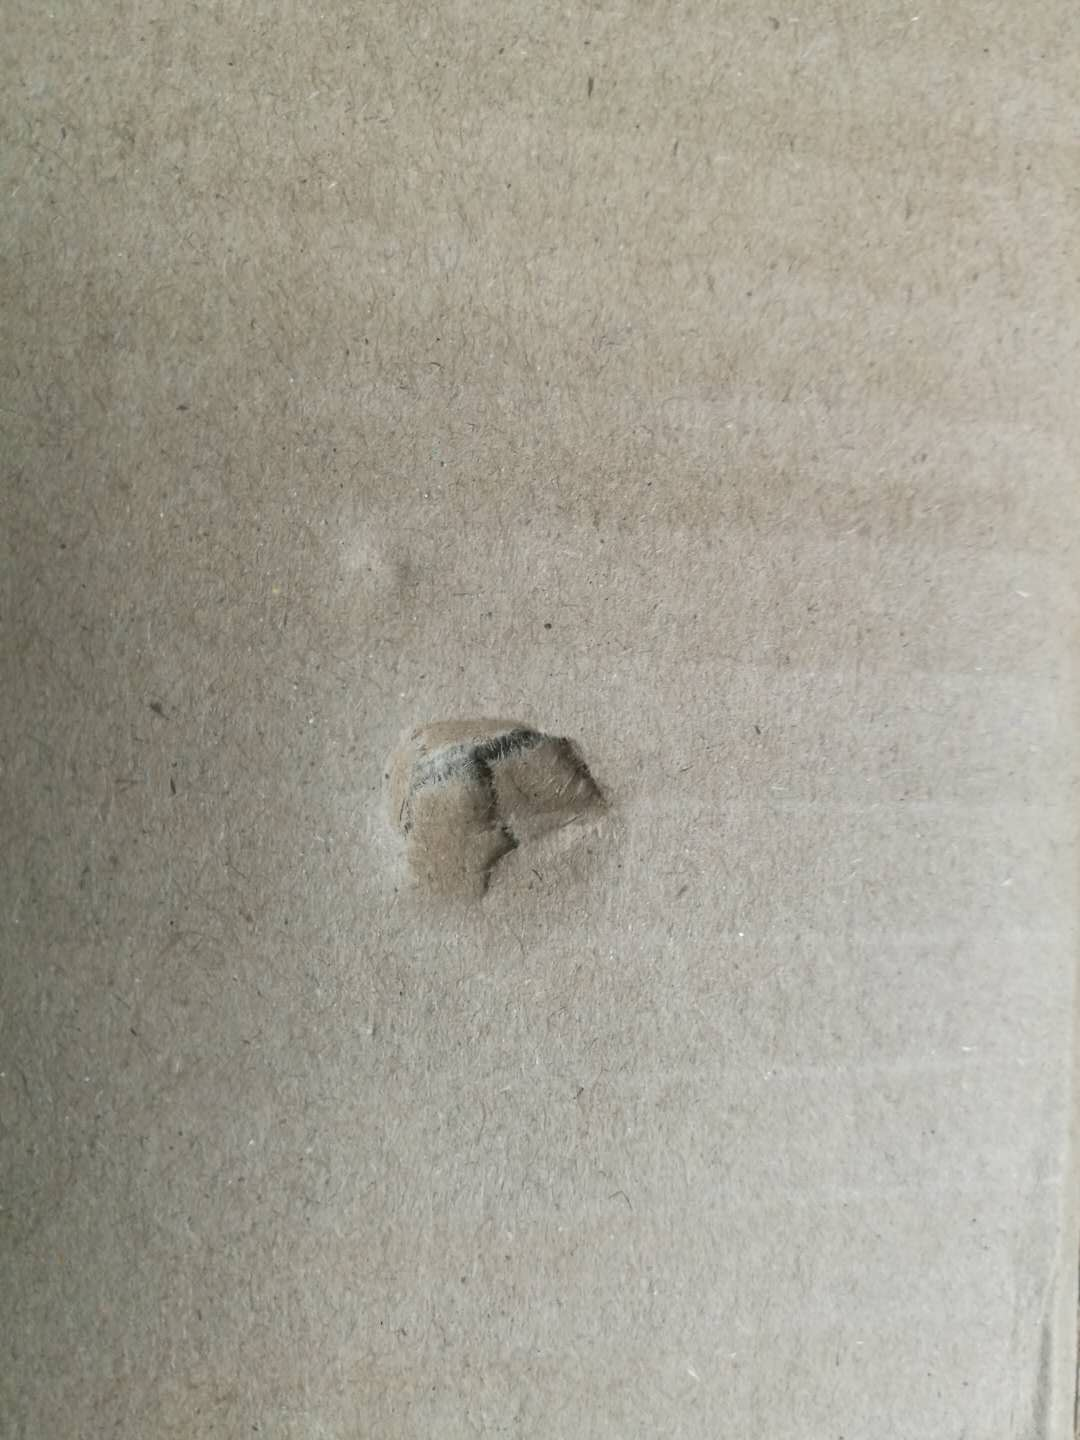defect: (335, 661, 665, 973), (1009, 1101, 1080, 1440), (339, 507, 463, 625)
